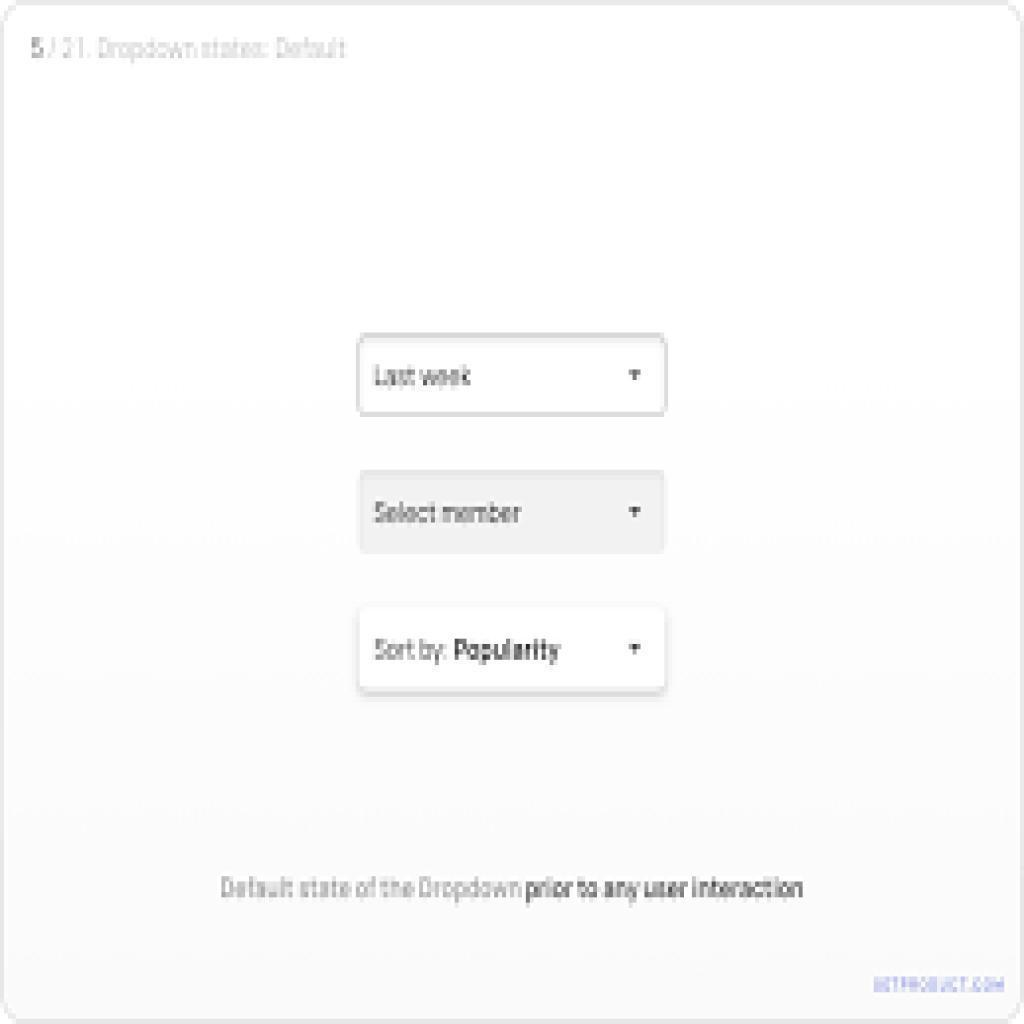dropdown: (357, 604, 668, 695), (355, 467, 668, 555), (355, 335, 670, 415)
